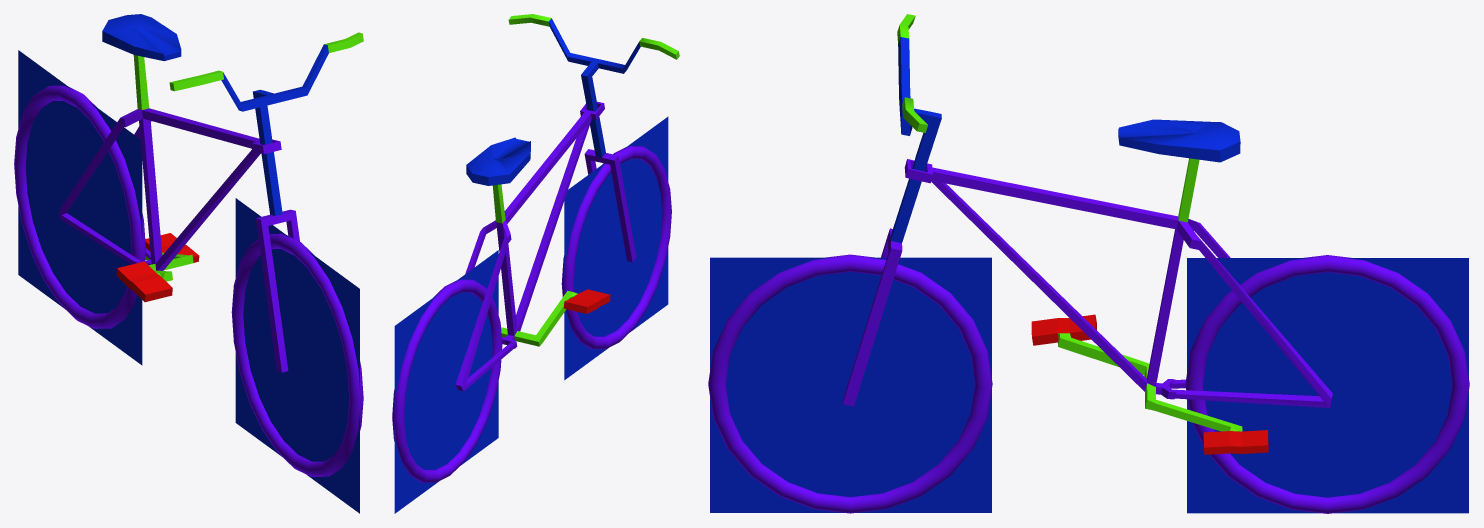
The model's file is bike_model_2.FBX.
3 views of the same model, side by side, from view 1: azimuth 30°, elevation 25°; view 2: azimuth 150°, elevation 25°; view 3: azimuth 270°, elevation 25° (orthographic). The views are drawn at different scales.
Visible parts, largest first — view 1: planefront, planeback, backbike, wheelfront, wheelback, frontwheel; view 2: planeback, planefront, backbike, wheelback, wheelfront, frontwheel; view 3: planefront, planeback, backbike, wheelfront, wheelback, frontwheel.
Part boxes in pixels (x1=…): planefront: x1=235, y1=198, x2=359, y2=513; planeback: x1=18, y1=50, x2=142, y2=365; backbike: x1=59, y1=14, x2=281, y2=302; wheelfront: x1=231, y1=233, x2=363, y2=476; wheelback: x1=14, y1=85, x2=145, y2=328; frontwheel: x1=169, y1=32, x2=363, y2=372; planeback: x1=394, y1=250, x2=498, y2=513; planefront: x1=564, y1=116, x2=668, y2=380; backbike: x1=455, y1=101, x2=610, y2=391; wheelback: x1=392, y1=279, x2=502, y2=482; wheelfront: x1=561, y1=146, x2=671, y2=349; frontwheel: x1=508, y1=14, x2=679, y2=262; planefront: x1=710, y1=257, x2=991, y2=512; planeback: x1=1187, y1=258, x2=1468, y2=513; backbike: x1=904, y1=119, x2=1332, y2=454; wheelfront: x1=708, y1=254, x2=992, y2=513; wheelback: x1=1185, y1=255, x2=1469, y2=513; frontwheel: x1=842, y1=14, x2=941, y2=406.
Bounding box in the file's own units: 50.72 × 98.97 × 151.
